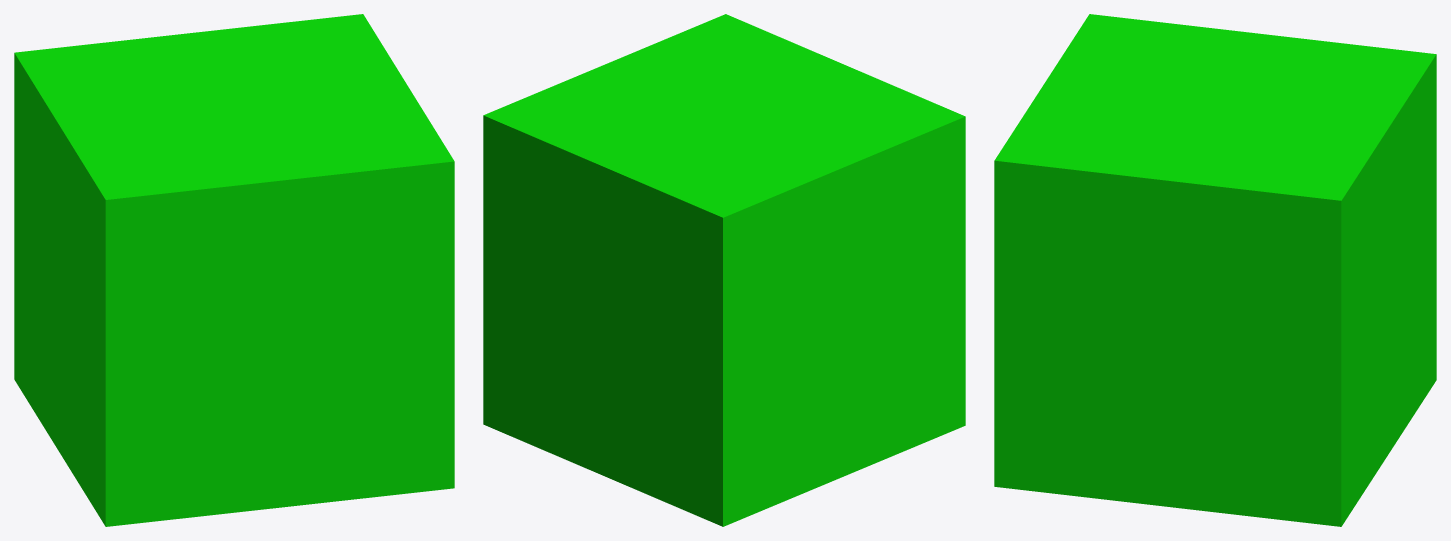
3 views of the same model, side by side, from view 1: azimuth 30°, elevation 25°; view 2: azimuth 150°, elevation 25°; view 3: azimuth 270°, elevation 25° (orthographic). The views are drawn at different scales.
Visible parts, largest first — view 1: Cube.030; view 2: Cube.030; view 3: Cube.030.
Boxes of the visible parts, x1,y1,x2,y2 form: Cube.030: [14, 14, 454, 526]; Cube.030: [483, 14, 965, 526]; Cube.030: [994, 14, 1436, 526].
Size of the model in its own units: 246 by 200 by 246.
